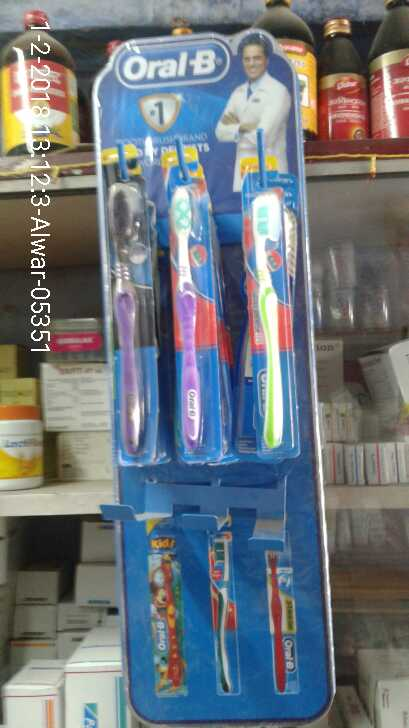oralb: (162, 174, 231, 462), (100, 178, 163, 464), (244, 175, 295, 459)
